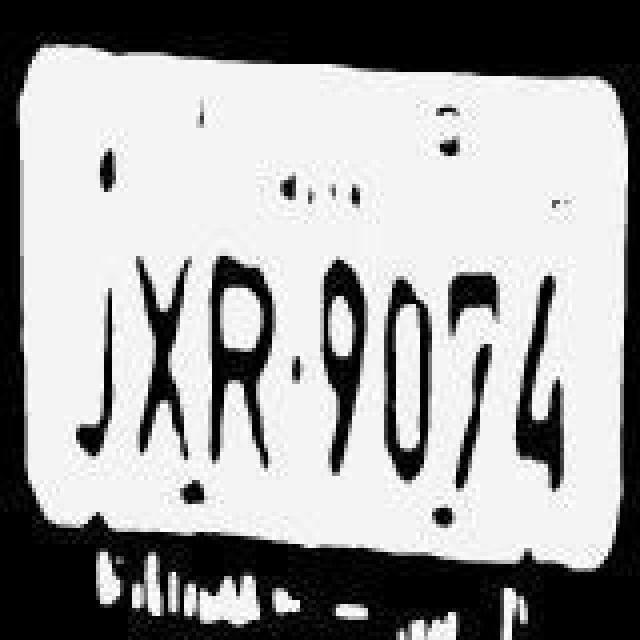4: (508, 264, 572, 496)
7: (440, 256, 504, 496)
9: (312, 254, 376, 482)
J: (54, 264, 122, 472)
O: (376, 268, 440, 492)
R: (210, 252, 294, 484)
X: (122, 244, 198, 468)
